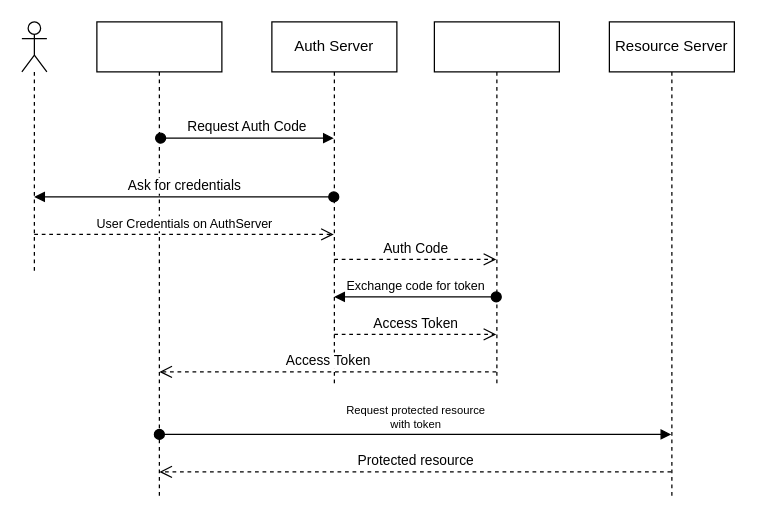
Image size: 758x519. Some labels were removed from this diagram. Each missing label, with the box of its shape:
Client App: (96, 21, 222, 497)
Redirect Server: (433, 21, 559, 384)
